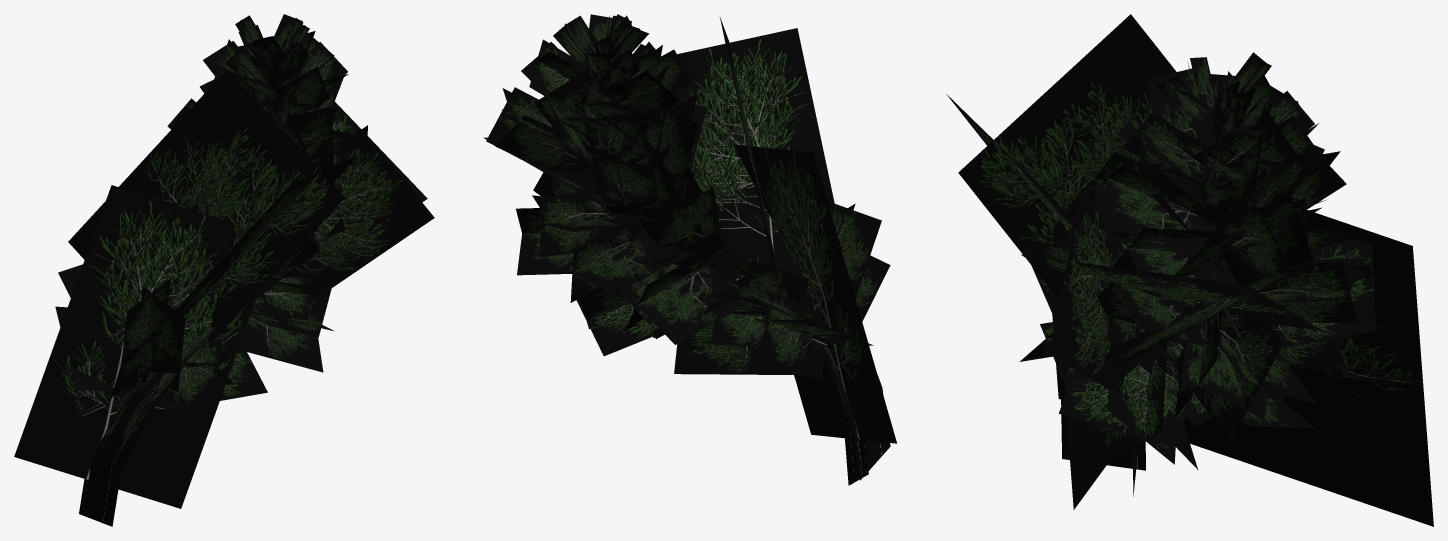
File: rosmary_spring_winter.glb
3 renders of one model, left to right at view 1: azimuth 30°, elevation 25°; view 2: azimuth 150°, elevation 25°; view 3: azimuth 270°, elevation 25°, orthographic. The views are drawn at different scales.
Visible parts, largest first — view 1: 2_Leaves, 1_Trunk; view 2: 2_Leaves, 1_Trunk; view 3: 2_Leaves, 1_Trunk.
Part boxes in pixels (box(x1,y1,x2,y2)): 2_Leaves: box(14, 14, 434, 508); 1_Trunk: box(79, 326, 217, 526); 2_Leaves: box(483, 14, 896, 443); 1_Trunk: box(620, 210, 890, 485); 2_Leaves: box(946, 14, 1433, 526); 1_Trunk: box(1053, 297, 1163, 496).
Size of the model in its own units: 45.18 by 47.47 by 37.2.
Materials: 1 (1 with a texture image).
